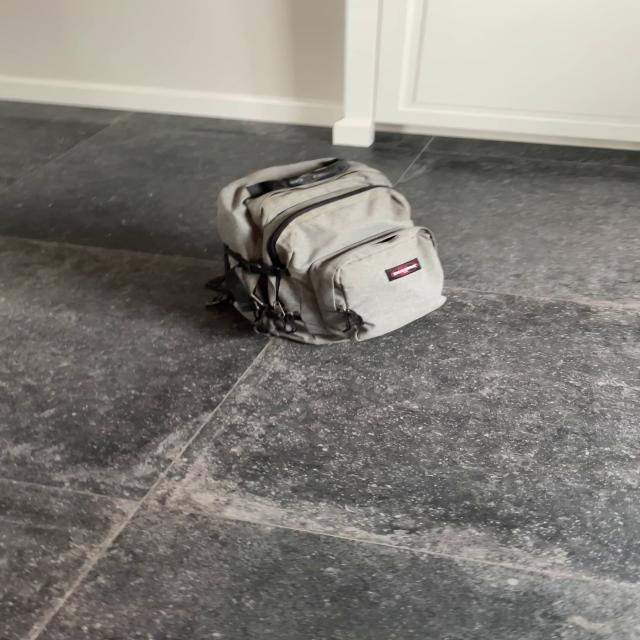backpack: (195, 153, 456, 350)
